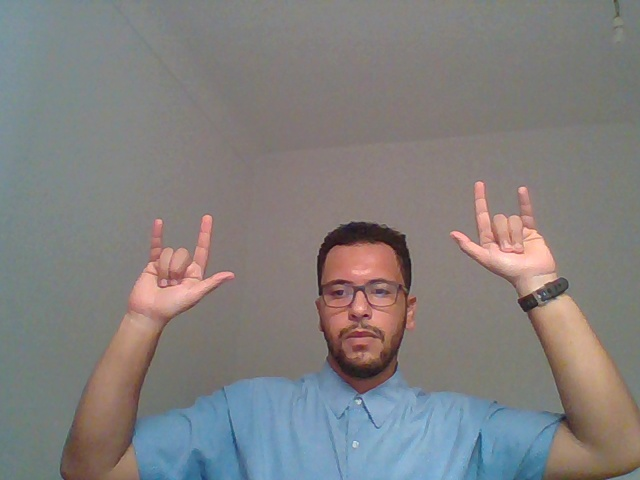iloveyou: (437, 153, 609, 435), (90, 178, 249, 427)
